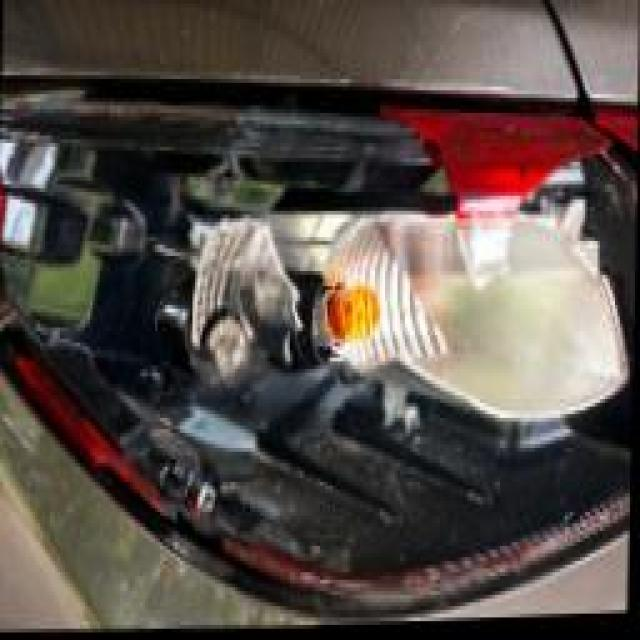Light: (0, 49, 639, 598)
